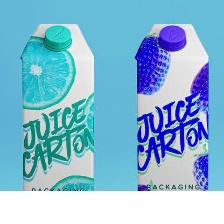carton: (16, 19, 100, 192), (131, 21, 214, 194)
